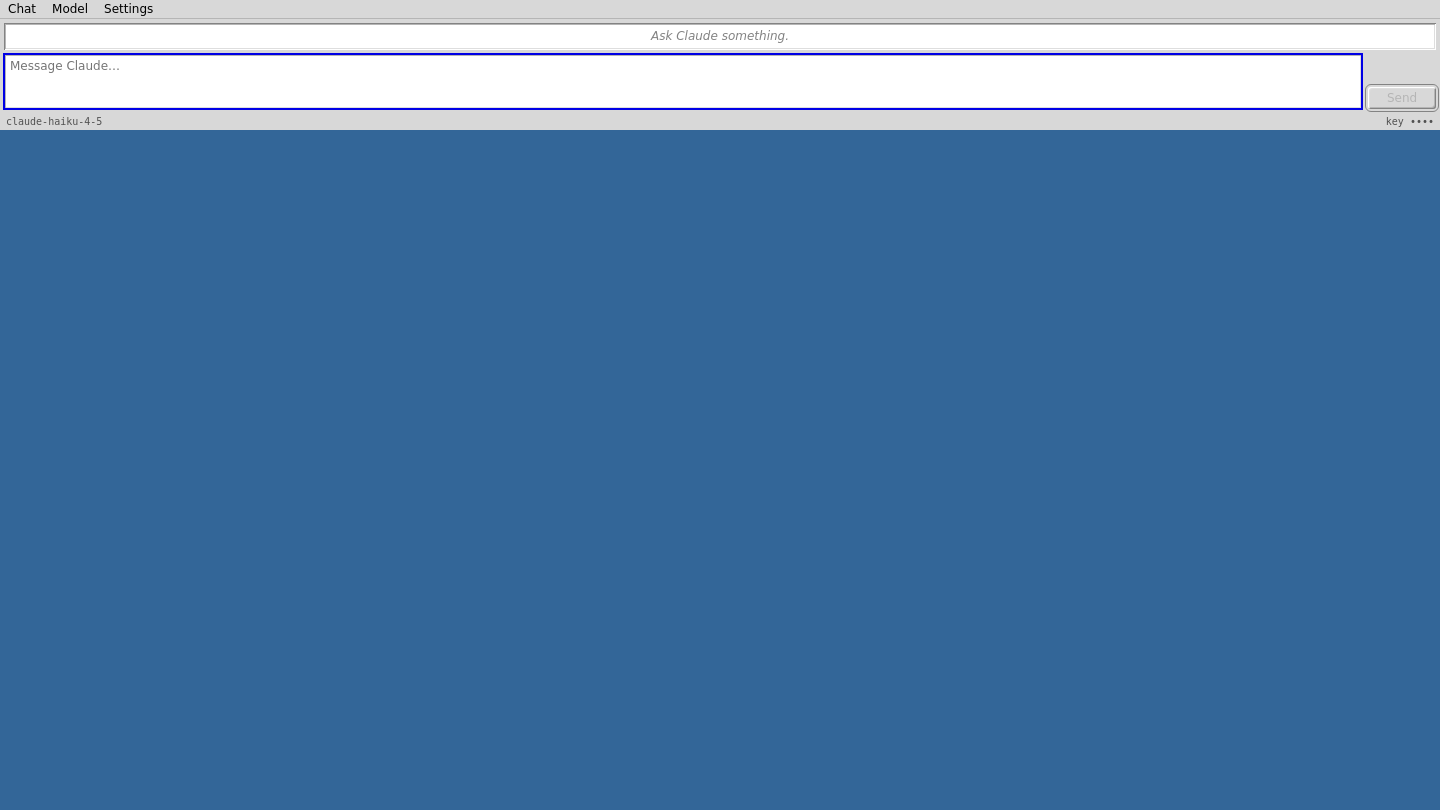
it: Claude chat › with a key set › reports rate limiting distinctly from auth failure
In the text box with class "claude-input": (683, 82) top-left (4, 54), bottom-right (1362, 109), type "hi"
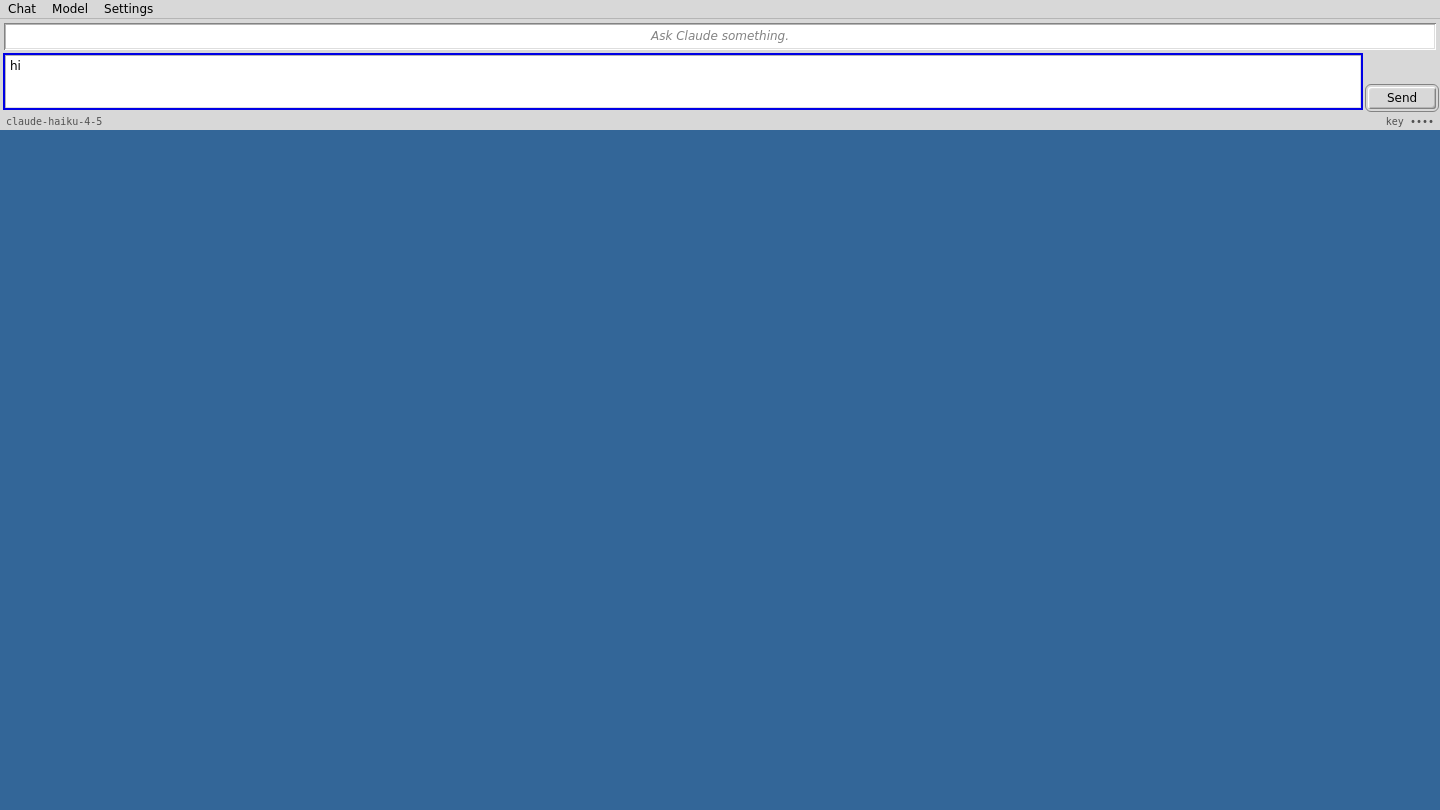
Click the button "Send": (1402, 98) top-left (1368, 87), bottom-right (1436, 109)
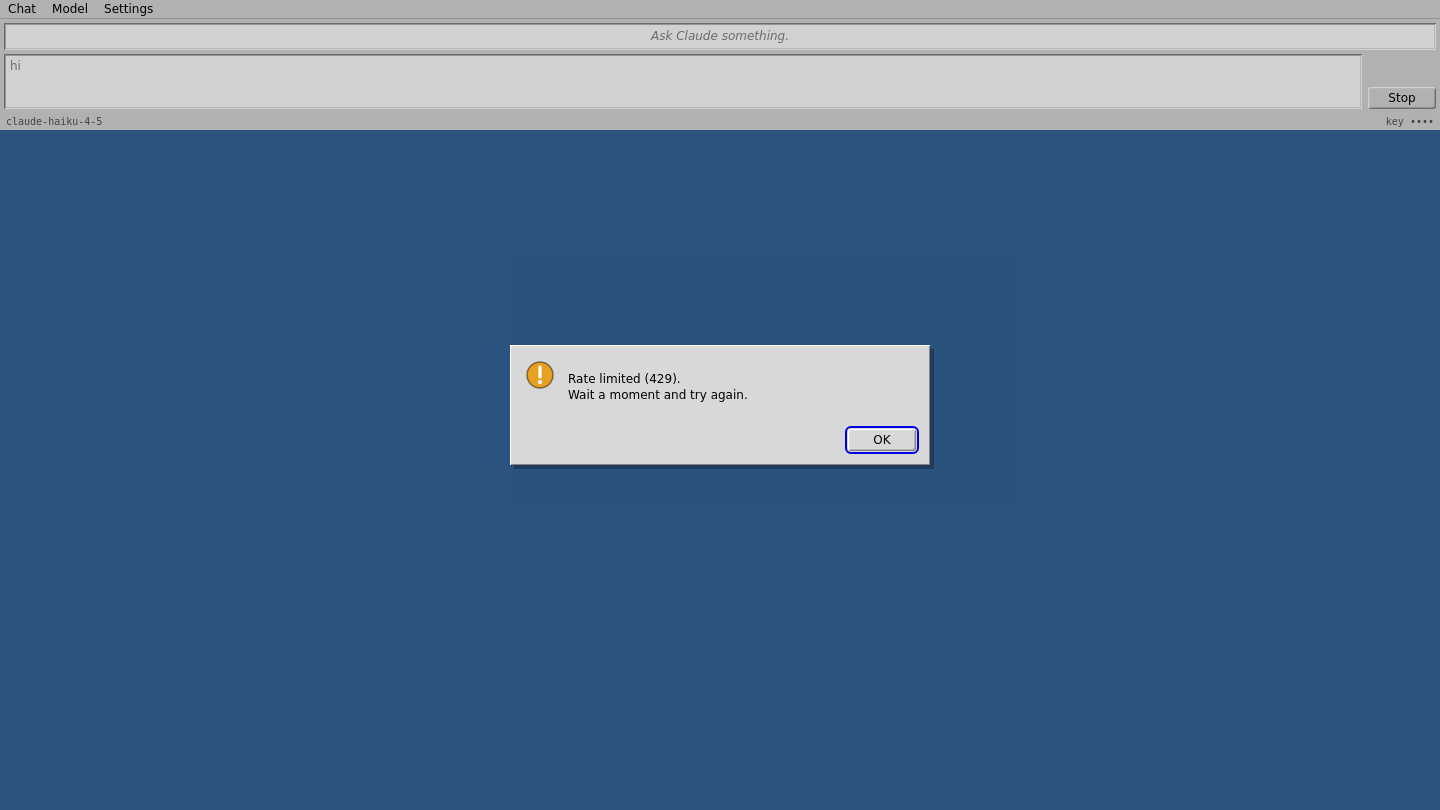
Expected: the text with class "b-alert-text" shows "429", top-left (568, 372), bottom-right (748, 402)
